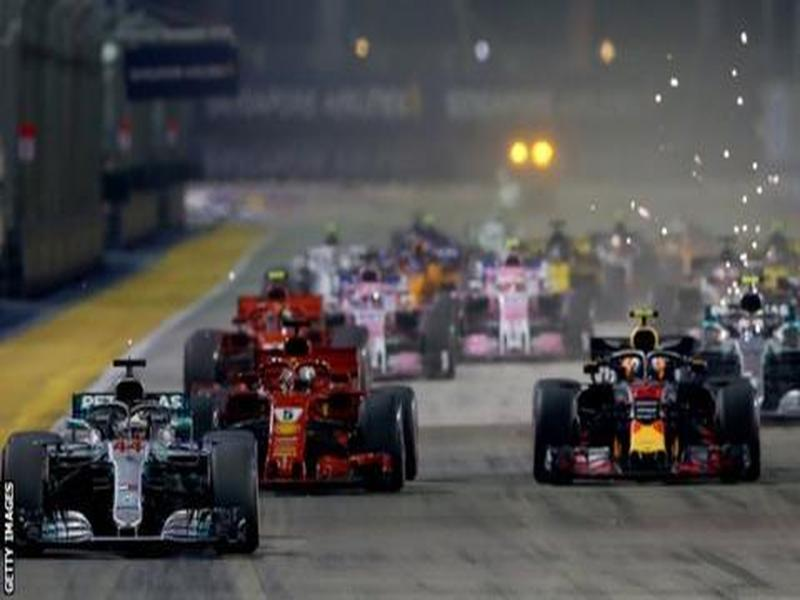f1: (3, 360, 274, 600), (529, 315, 771, 486), (197, 337, 420, 504), (175, 265, 365, 375), (694, 250, 800, 423), (449, 254, 599, 366)
